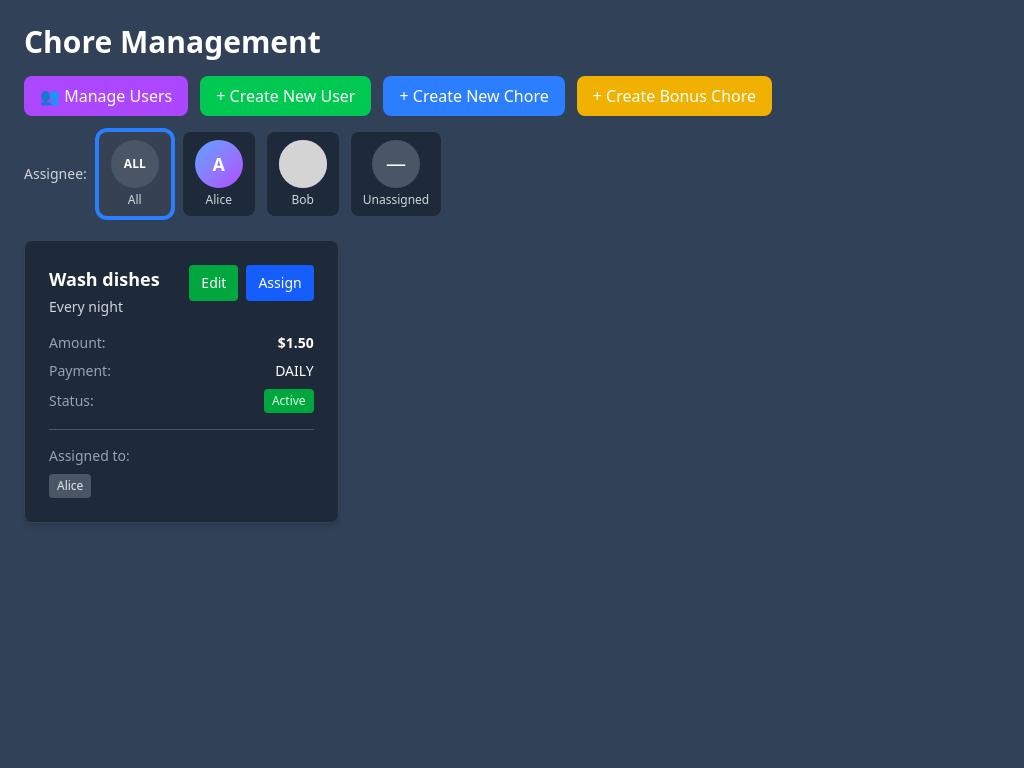
AdminChoreManagement toolbar › opens the Create New Chore modal
expect the heading "Chore Management" is shown: met, box [24,21,321,62]
Click the button "+ Create New Chore" at (474, 96), box [384,76,565,116]
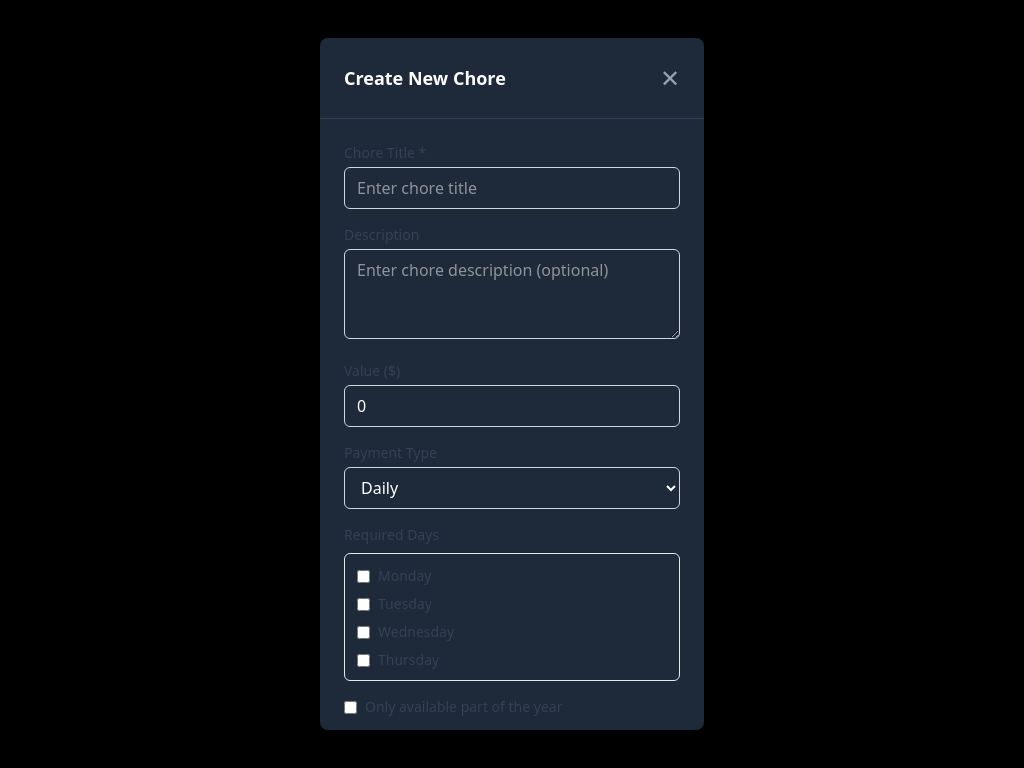
expect the heading "Create New Chore" is shown: met, box [344,64,506,92]
expect the field labelled "Chore Title *" is shown: met, box [344,167,680,209]
